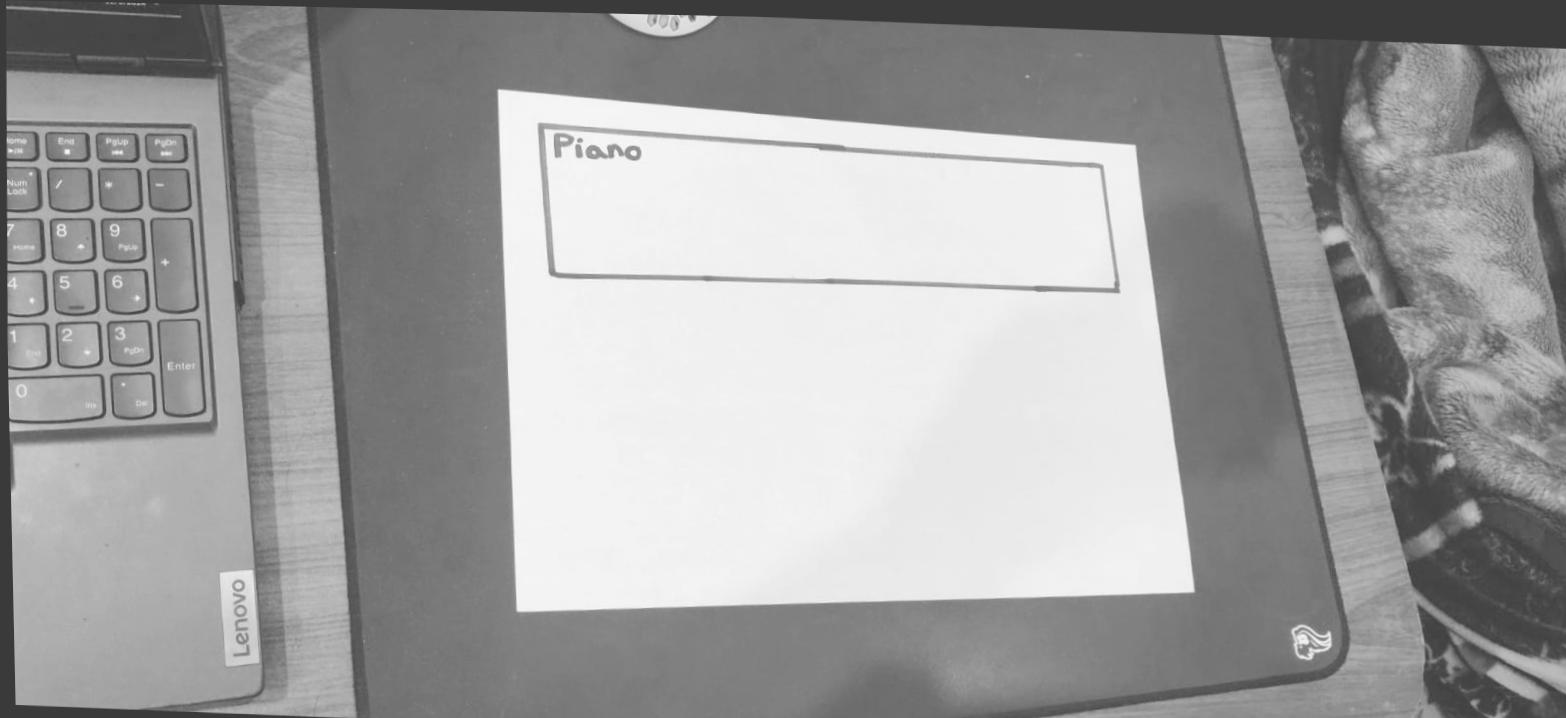paper-piano: (536, 121, 1126, 287)
